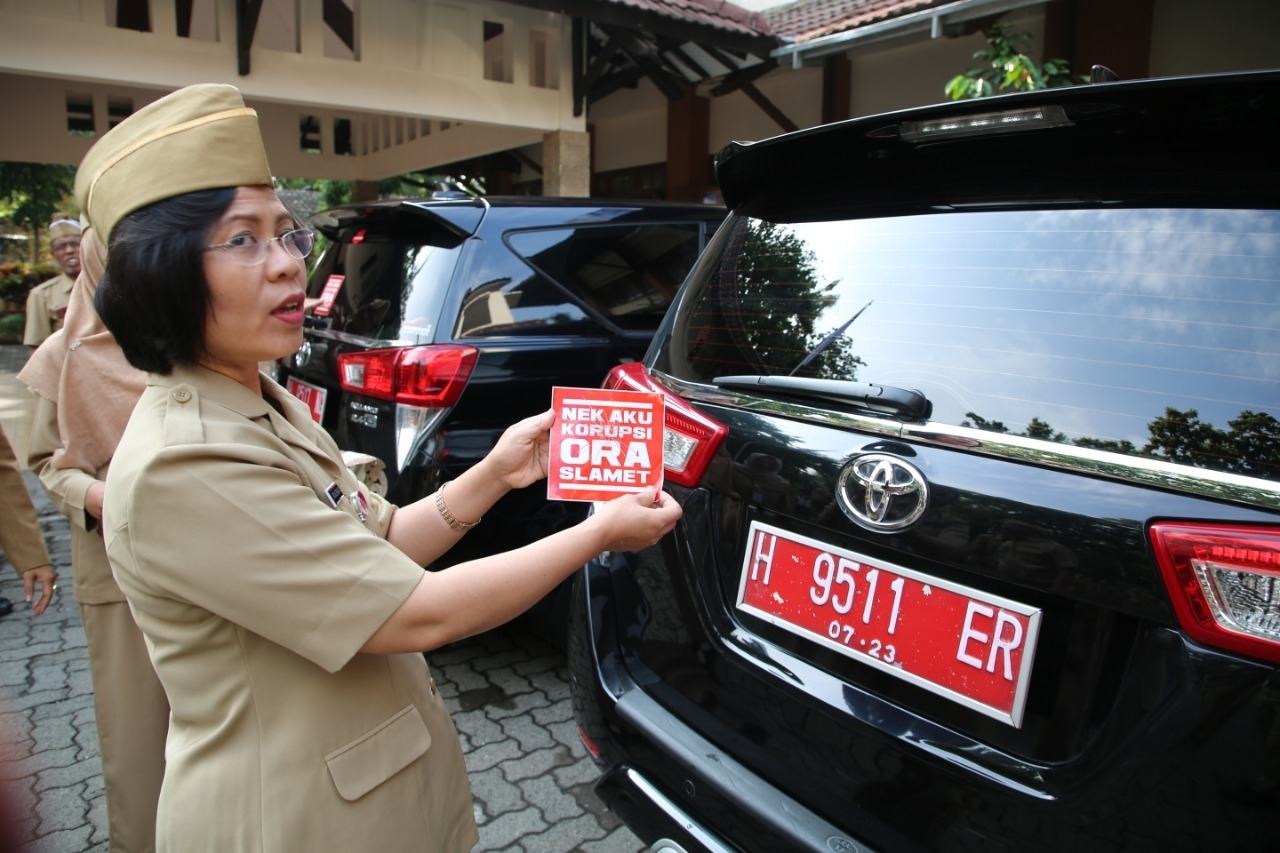plate: (739, 523, 1022, 721)
